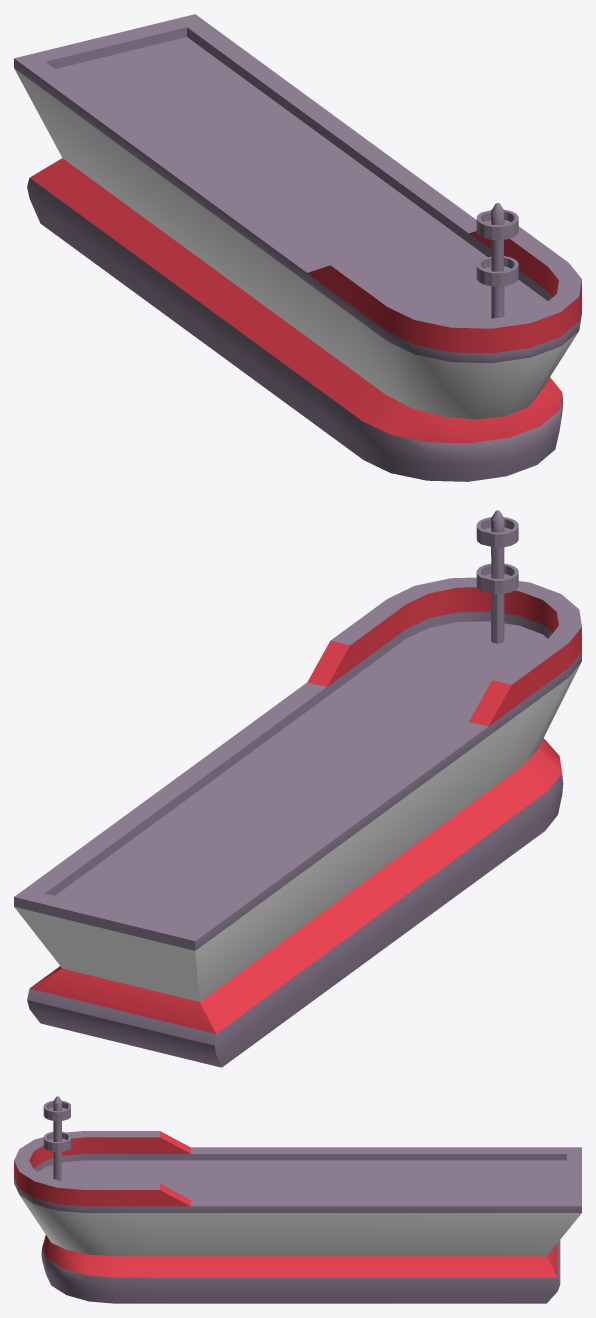
Rendered from ship.fbx.
The picture shows the model from 3 angles, top to bottom: view 1: azimuth 30°, elevation 25°; view 2: azimuth 150°, elevation 25°; view 3: azimuth 270°, elevation 25°; orthographic projection. The views are drawn at different scales.
Visible parts, largest first — view 1: Ship; view 2: Ship; view 3: Ship.
Boxes of the visible parts, box(x1,y1,x2,y2) form: Ship: box(14, 14, 581, 481); Ship: box(14, 510, 581, 1067); Ship: box(14, 1096, 581, 1303).
Size of the model in its own units: 9836 by 13315 by 38623.
